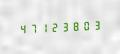eight: (72, 19, 82, 32)
four: (17, 22, 27, 35)
one: (39, 21, 49, 34)
seven: (28, 21, 38, 35)
three: (61, 19, 71, 33), (94, 18, 104, 31)
two: (50, 20, 60, 33)
zero: (83, 18, 93, 32)
